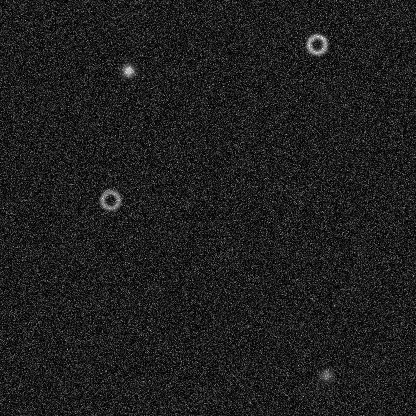Ring: (98, 187, 122, 211), (304, 32, 328, 56)
Spot: (317, 367, 333, 383), (120, 62, 136, 78)
